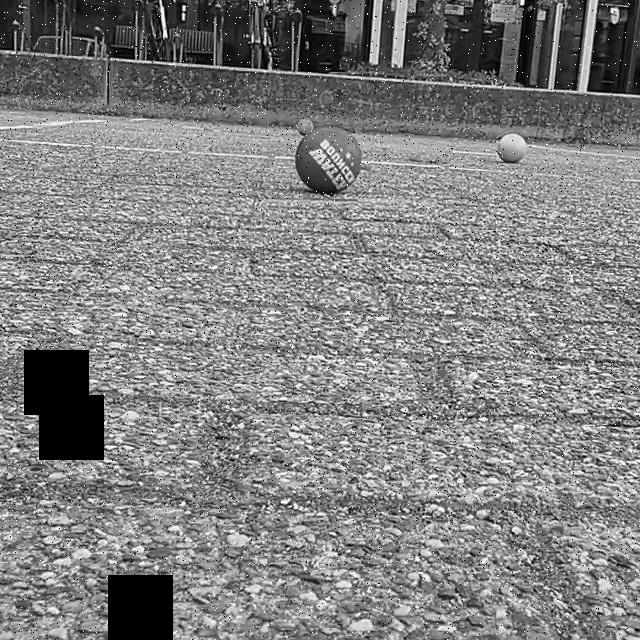ball: (495, 129, 530, 169), (295, 115, 316, 139)
